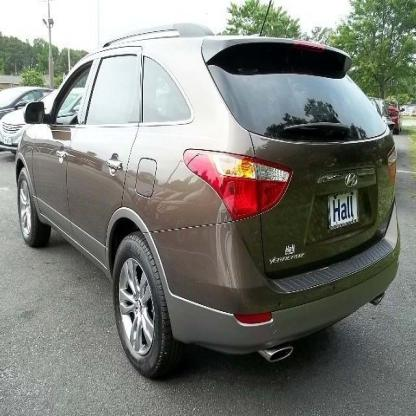car: (16, 30, 403, 380)
